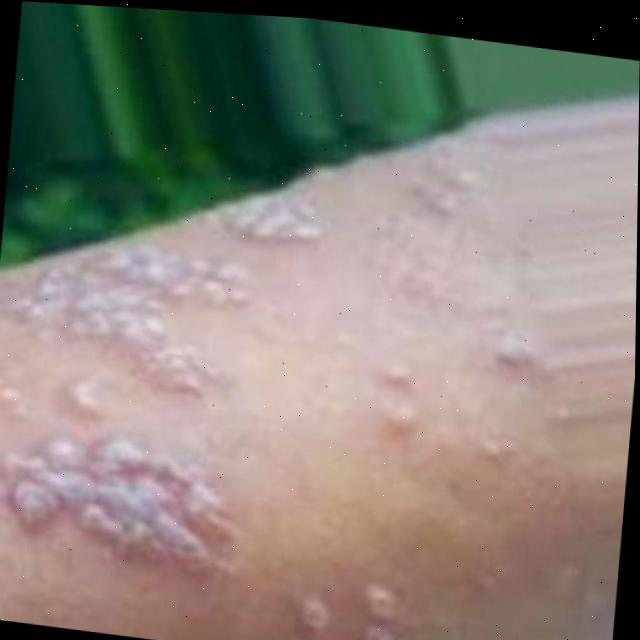Shingles: (0, 152, 317, 577)
